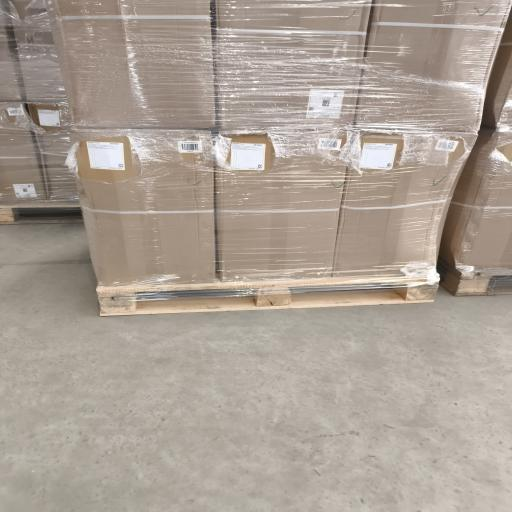pallet: (97, 278, 437, 316), (439, 260, 511, 296), (0, 201, 82, 224), (441, 273, 511, 296)
